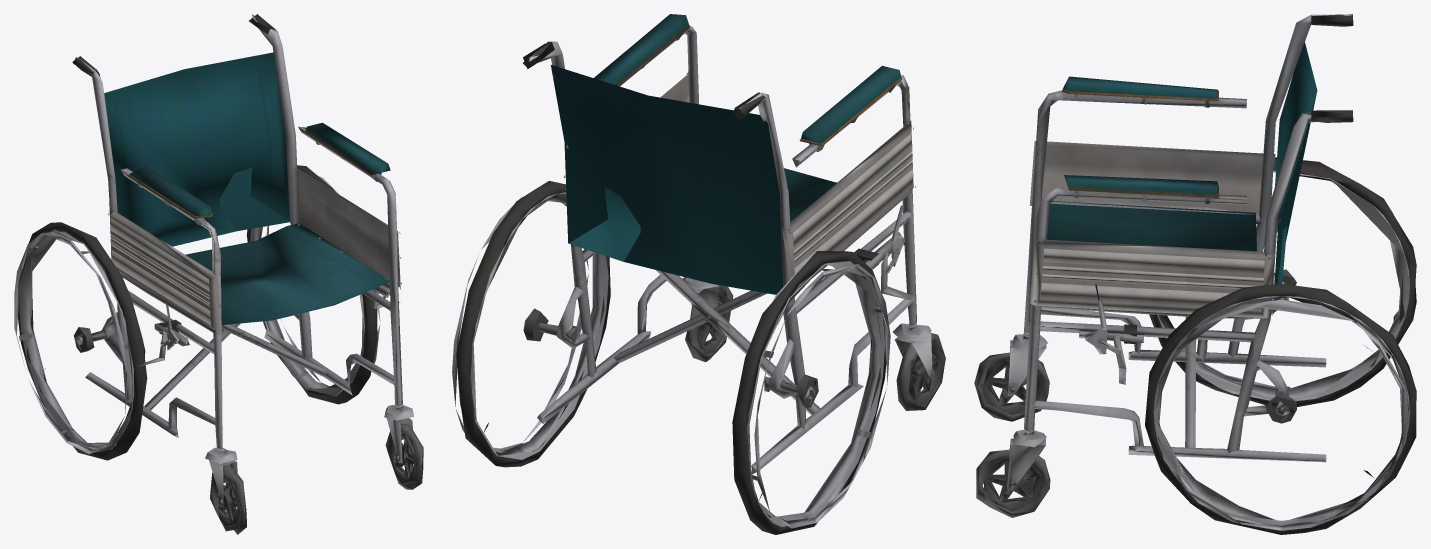
The model's file is wheelchair.glb.
The picture shows the model from 3 angles, left to right: view 1: azimuth 30°, elevation 25°; view 2: azimuth 150°, elevation 25°; view 3: azimuth 270°, elevation 25°; orthographic projection. The views are drawn at different scales.
Visible parts, largest first — view 1: wheelchair_01; view 2: wheelchair_01; view 3: wheelchair_01.
Part boxes in pixels (x1=…): wheelchair_01: x1=14, y1=14, x2=423, y2=534; wheelchair_01: x1=452, y1=14, x2=945, y2=534; wheelchair_01: x1=974, y1=14, x2=1416, y2=534.
Bounding box in the file's own units: 0.8241 × 1.1 × 1.08.
Materials: 1 (1 with a texture image).
